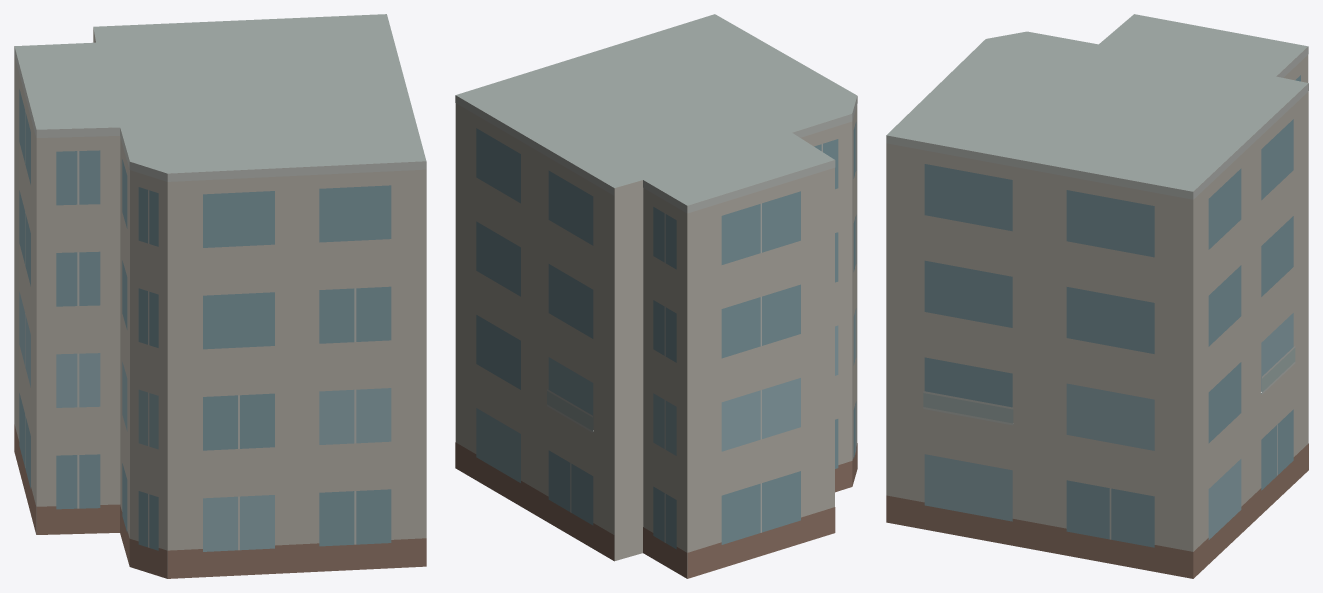
Rendered from survey-upis-32531503.glb.
3 renders of one model, left to right at view 1: azimuth 30°, elevation 25°; view 2: azimuth 150°, elevation 25°; view 3: azimuth 270°, elevation 25°, orthographic. The views are drawn at different scales.
Visible parts, largest first — view 1: survey-upis-32531503.tmp; view 2: survey-upis-32531503.tmp; view 3: survey-upis-32531503.tmp.
Part boxes in pixels (box(x1,y1,x2,y2)): survey-upis-32531503.tmp: box(14, 14, 426, 578); survey-upis-32531503.tmp: box(455, 14, 857, 578); survey-upis-32531503.tmp: box(886, 14, 1308, 578).
Bounding box in the file's own units: 11.63 × 11.8 × 11.68.
